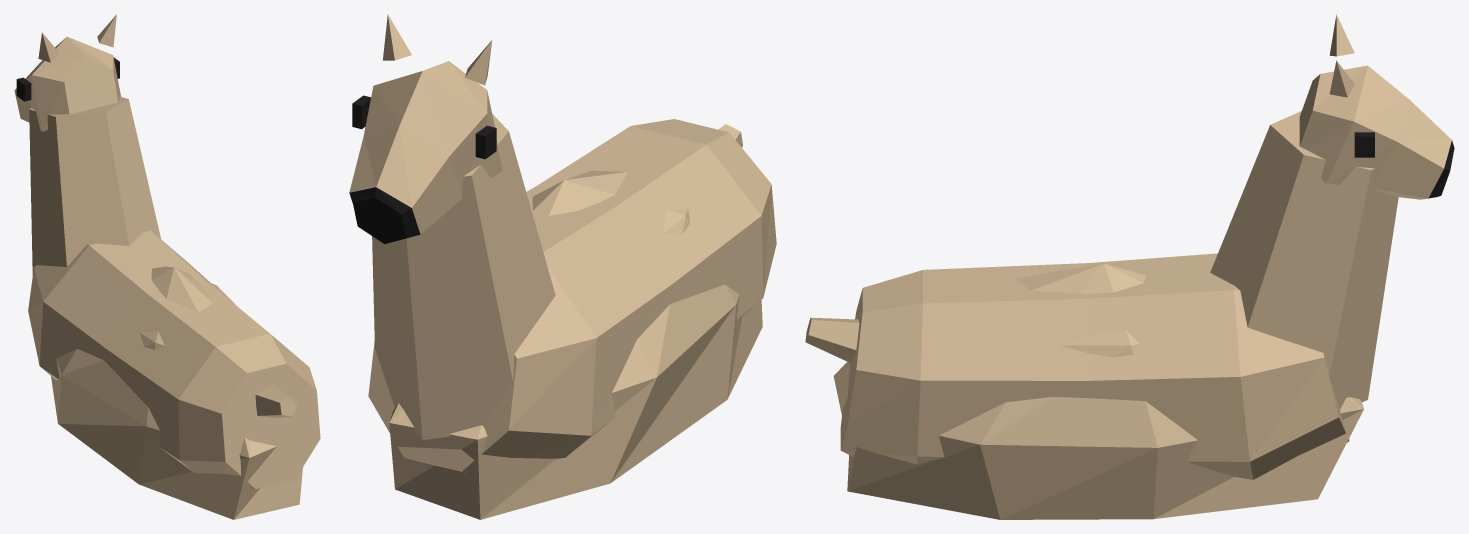
Rendered from animal_alpaca.obj.
3 views of the same model, side by side, from view 1: azimuth 30°, elevation 25°; view 2: azimuth 150°, elevation 25°; view 3: azimuth 270°, elevation 25° (orthographic). The views are drawn at different scales.
Parts seen in each view (by area): view 1: animal_alpaca; view 2: animal_alpaca; view 3: animal_alpaca.
Boxes of the visible parts, x1,y1,x2,y2 form: animal_alpaca: [14, 14, 320, 519]; animal_alpaca: [349, 14, 776, 519]; animal_alpaca: [805, 14, 1454, 519].
Size of the model in its own units: 0.3947 by 0.8096 by 1.03.
